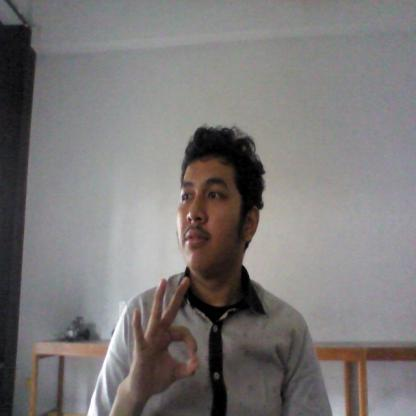O: (123, 272, 216, 393)
